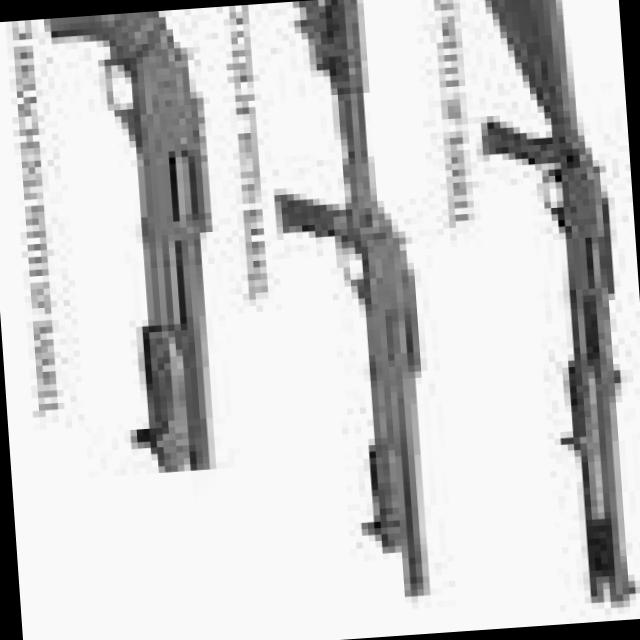long weapon: (268, 0, 449, 612), (468, 0, 640, 618), (29, 8, 227, 483)
